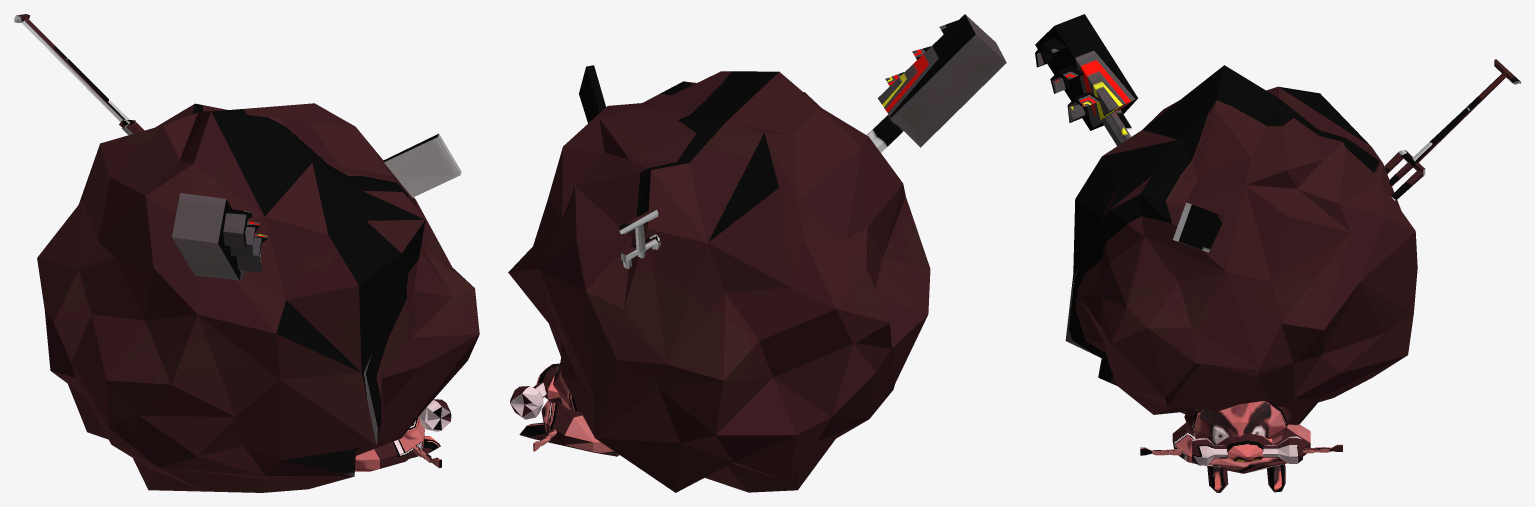
File: Chief.glb
3 renders of one model, left to right at view 1: azimuth 30°, elevation 25°; view 2: azimuth 150°, elevation 25°; view 3: azimuth 270°, elevation 25°, orthographic. The views are drawn at different scales.
Parts seen in each view (by area): view 1: Chief; view 2: Chief; view 3: Chief.
Part boxes in pixels (x1=…): Chief: x1=14, y1=14, x2=479, y2=492; Chief: x1=508, y1=14, x2=1006, y2=492; Chief: x1=1035, y1=14, x2=1520, y2=492.
Bounding box in the file's own units: 84.26 × 86.27 × 113.
1 material, 1 textured.
